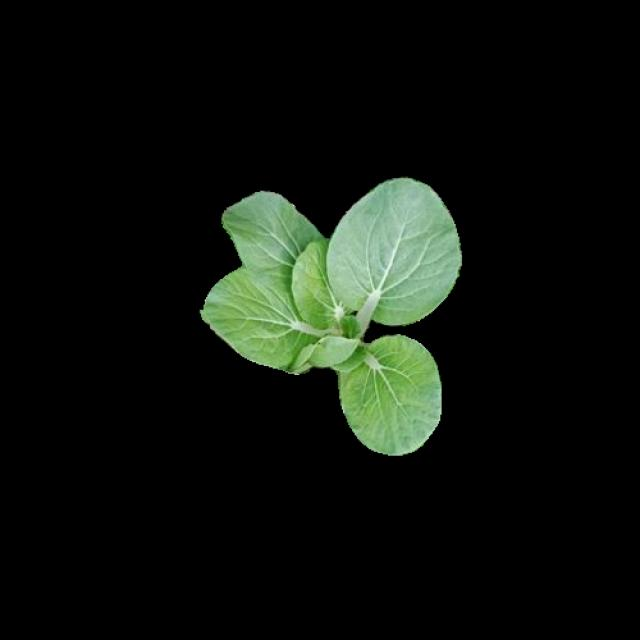healthy: (202, 176, 462, 454)
not-mature: (200, 173, 460, 452)
